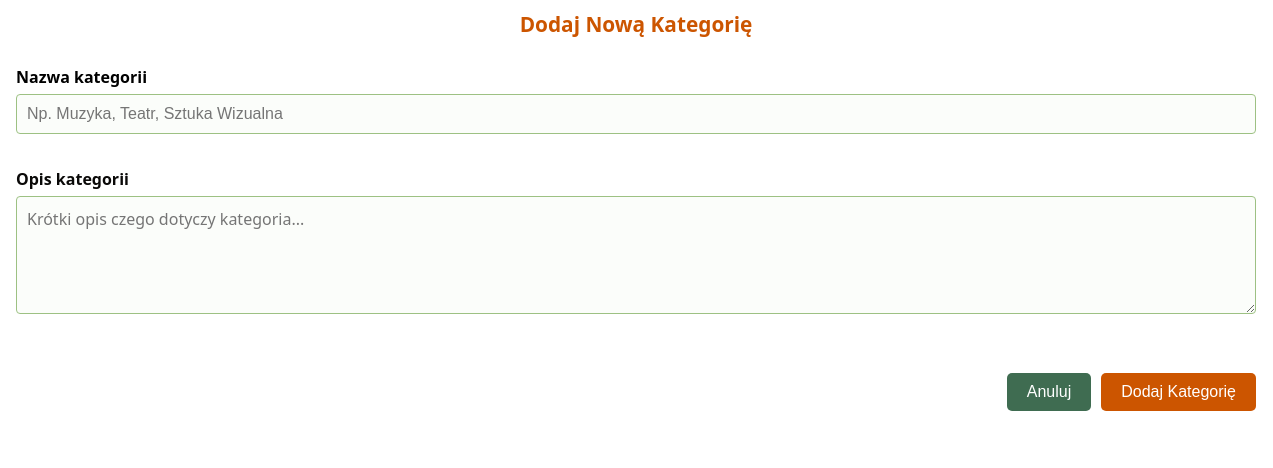
Test: CreateCategory Component › Client-side validation › shows error if description is too short
The image size is (1273, 468).
Type "Valid Name" into the field labelled "Nazwa kategorii" at (636, 114), box [16, 94, 1256, 134]
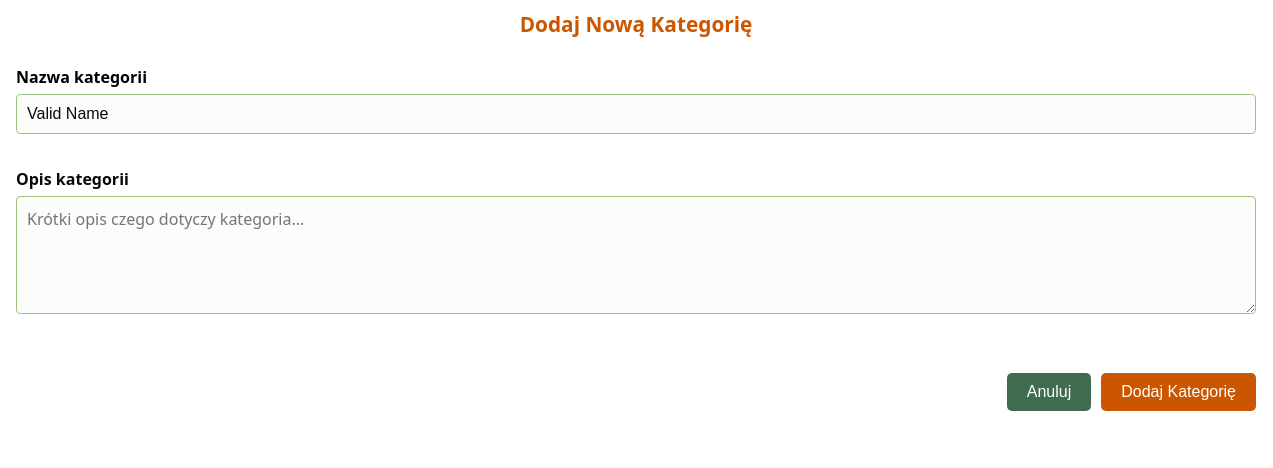
Type "Short" into the text box labelled "Opis kategorii" at (636, 255), box [16, 196, 1256, 314]
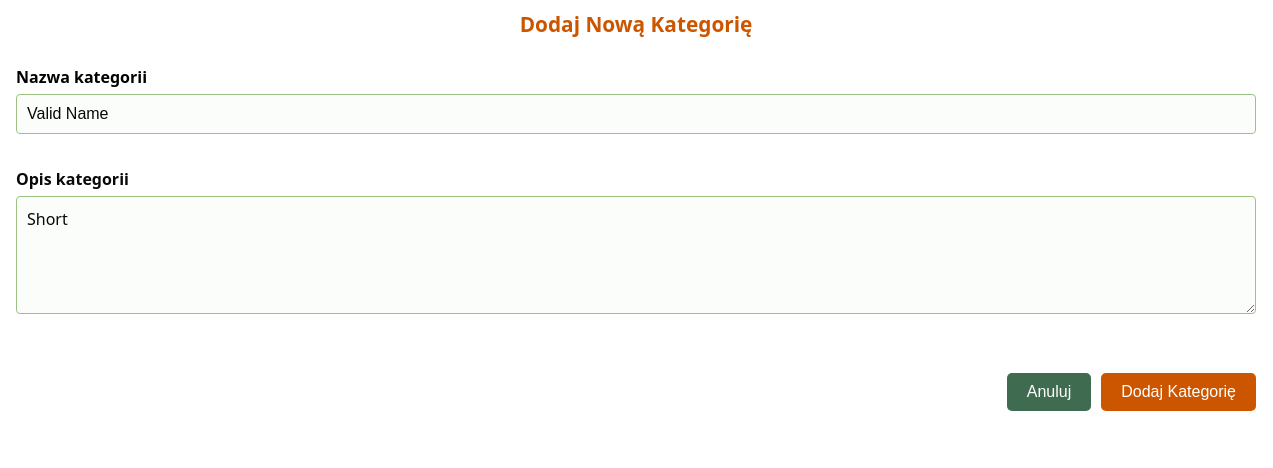
Click the button "Dodaj Kategorię" at (1179, 392), box [1101, 373, 1256, 411]
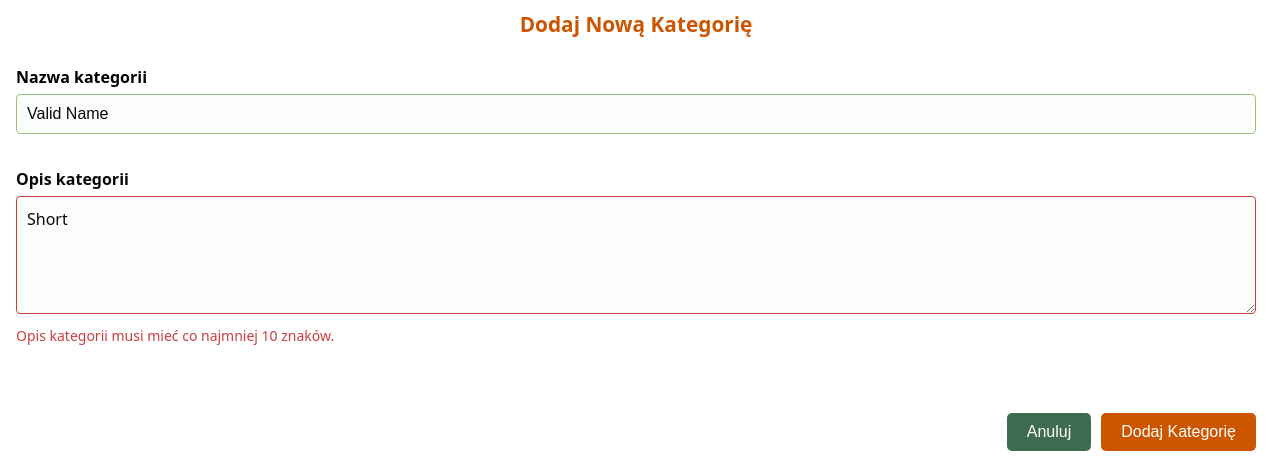
Now the text "Opis kategorii musi mieć co najmniej 10 znaków." is shown, box [16, 326, 334, 345]
